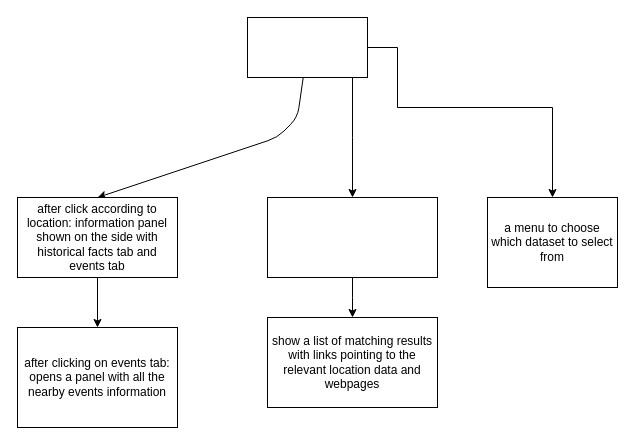
Image size: 635x445. Some labels were removed from this diagram. The shapes that lost their labels are listed below. From the top down, each one's box as (x1, y1, x2, y2) in pixels, then its label:
(246, 16, 368, 78): entry point: entire map and side panel
(266, 196, 438, 278): a search option based on keywords and coordinates
